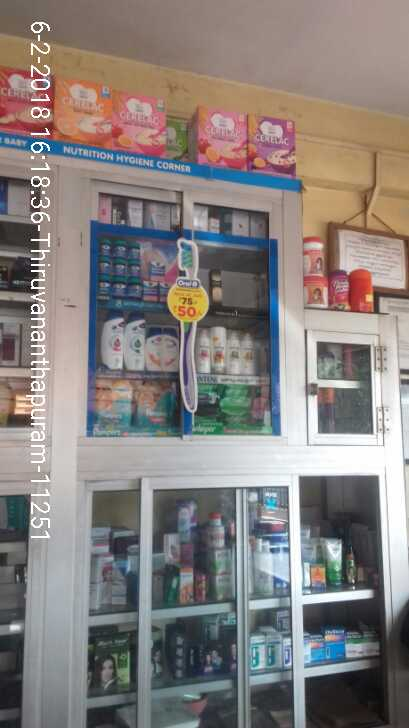vicks: (100, 241, 170, 302)
